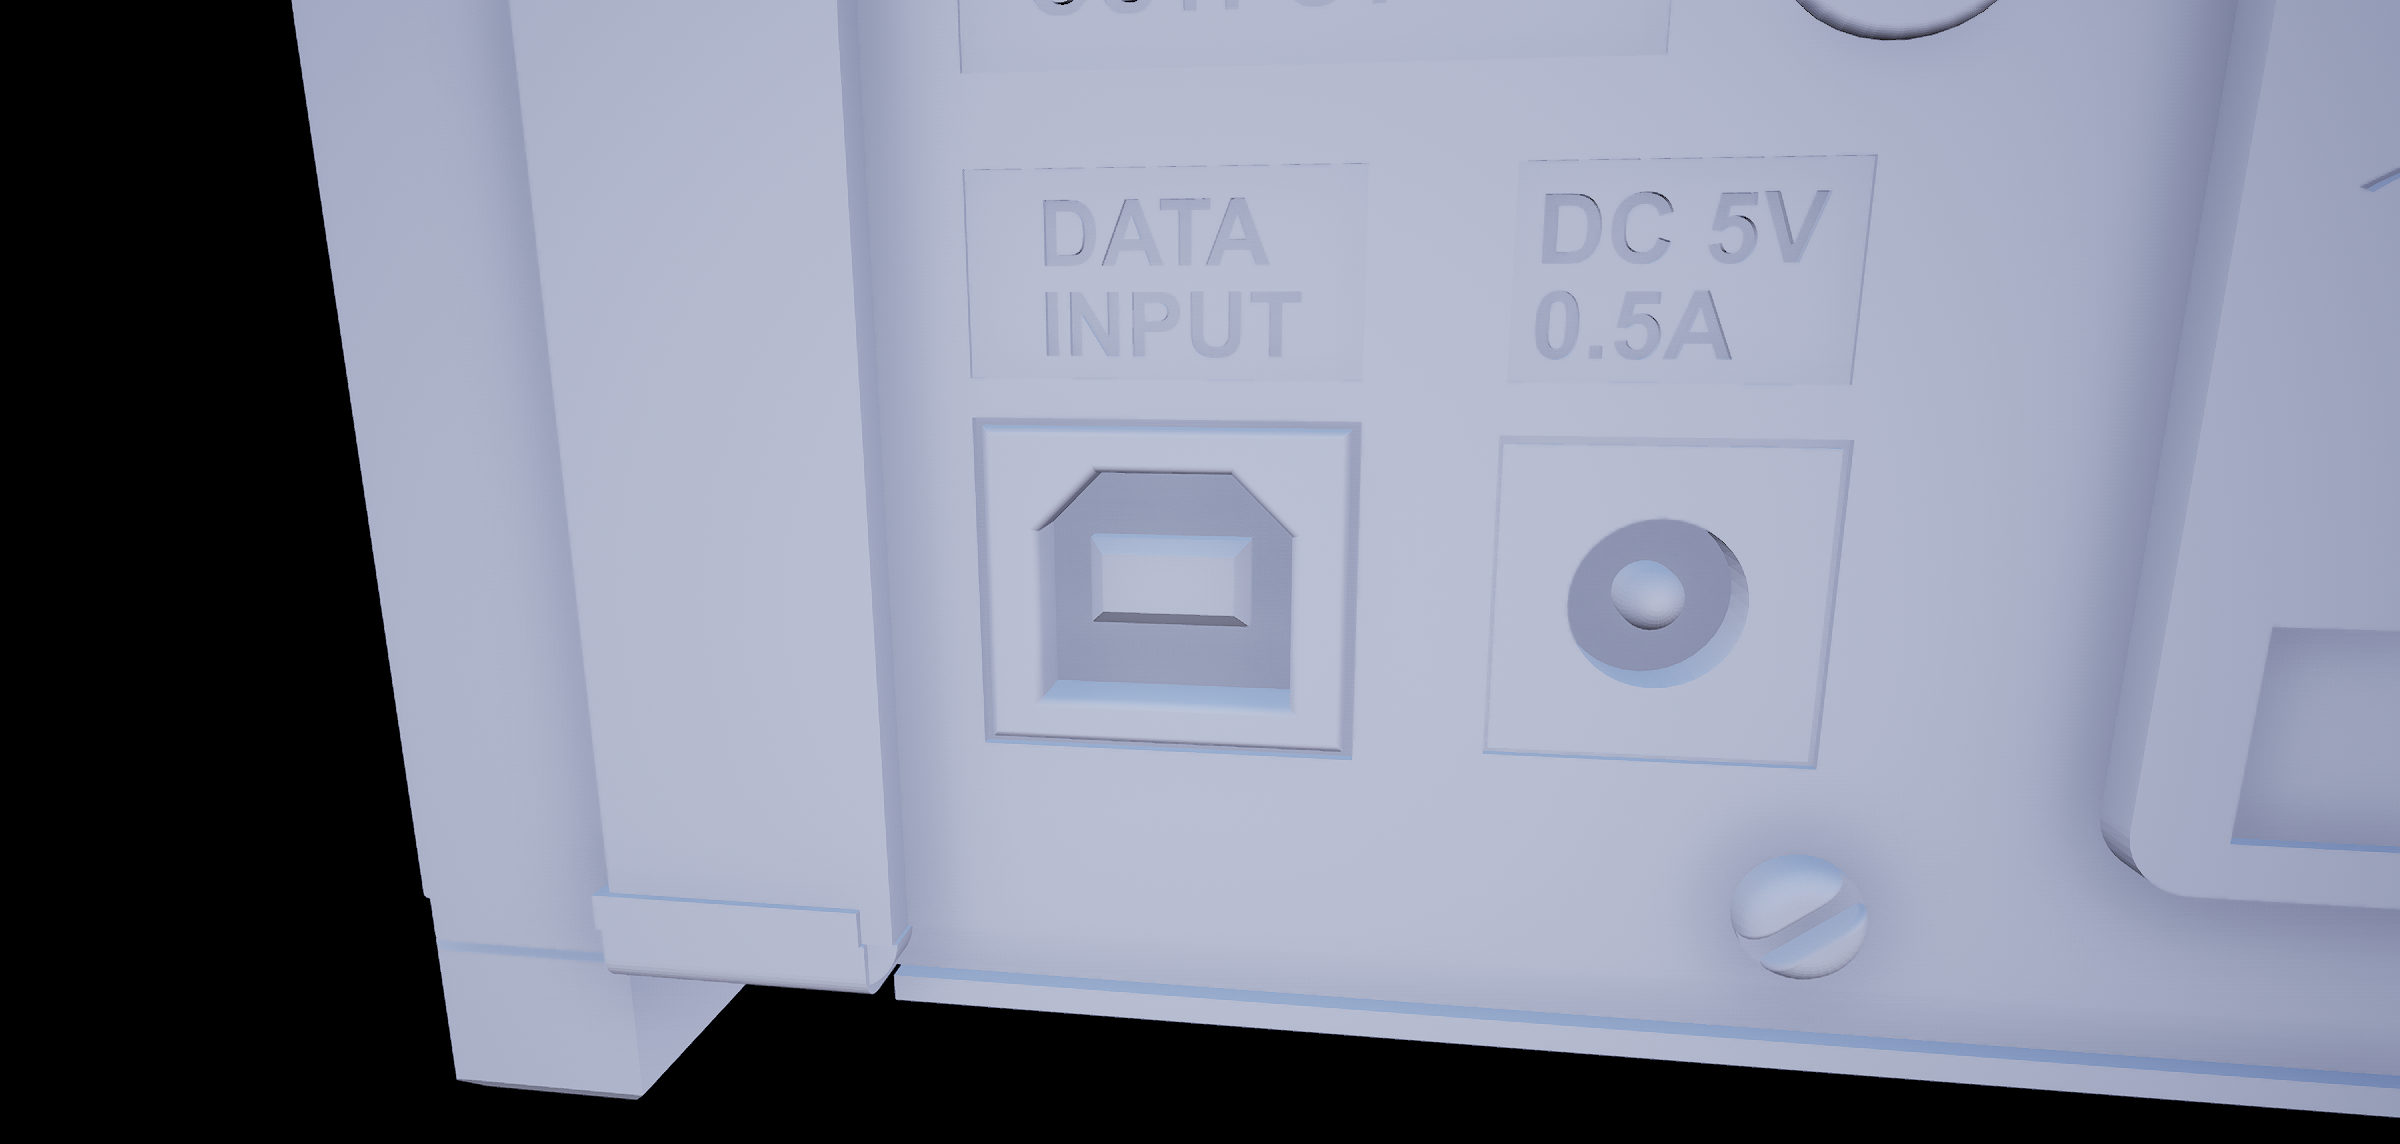dc: (1558, 513, 1763, 704)
usb: (1027, 440, 1313, 726)
